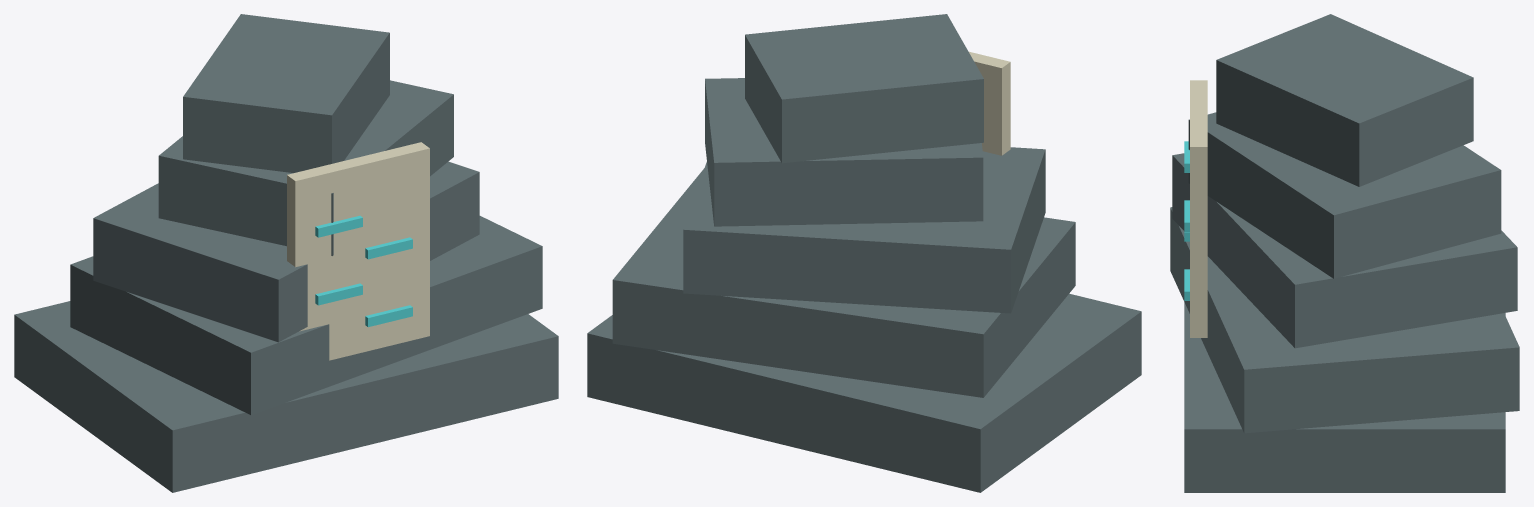
Rendered from survey_cairn.fbx.
3 views of the same model, side by side, from view 1: azimuth 30°, elevation 25°; view 2: azimuth 150°, elevation 25°; view 3: azimuth 270°, elevation 25° (orthographic).
Visible parts, largest first — view 1: cairn_layer_0, cairn_layer_1, cairn_layer_4, cairn_layer_2, survey_tablet, cairn_layer_3, tablet_glyph_1, tablet_glyph_2, tablet_glyph_3, tablet_glyph_0; view 2: cairn_layer_0, cairn_layer_1, cairn_layer_2, cairn_layer_4, cairn_layer_3, survey_tablet; view 3: cairn_layer_1, cairn_layer_4, cairn_layer_3, cairn_layer_0, cairn_layer_2, survey_tablet.
Boxes of the visible parts, x1,y1,x2,y2 form: cairn_layer_0: (14, 301, 558, 492); cairn_layer_1: (70, 216, 542, 415); cairn_layer_4: (183, 14, 389, 172); cairn_layer_2: (93, 161, 479, 342); survey_tablet: (287, 142, 429, 360); cairn_layer_3: (158, 80, 453, 255); tablet_glyph_1: (315, 283, 362, 305); tablet_glyph_2: (365, 237, 412, 259); tablet_glyph_3: (315, 215, 362, 237); tablet_glyph_0: (365, 305, 412, 327); cairn_layer_0: (587, 293, 1141, 492); cairn_layer_1: (612, 168, 1075, 397); cairn_layer_2: (683, 147, 1045, 313); cairn_layer_4: (745, 14, 983, 163); cairn_layer_3: (705, 78, 983, 226); survey_tablet: (969, 51, 1010, 155); cairn_layer_1: (1170, 207, 1519, 433); cairn_layer_4: (1216, 14, 1473, 186); cairn_layer_3: (1188, 112, 1501, 278); cairn_layer_0: (1184, 302, 1505, 492); cairn_layer_2: (1172, 153, 1517, 348); survey_tablet: (1190, 80, 1207, 337).
Size of the model in its own units: 160 by 124 by 120.
